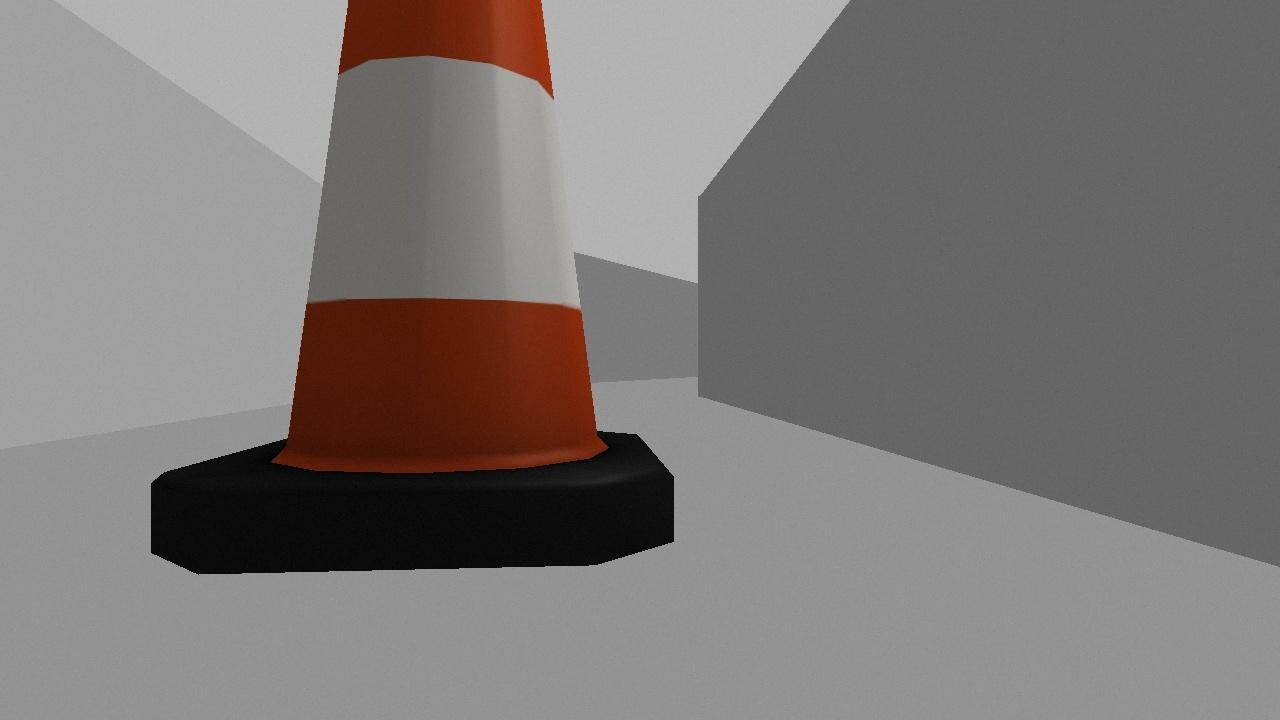cone_barrel: (122, 0, 700, 601)
